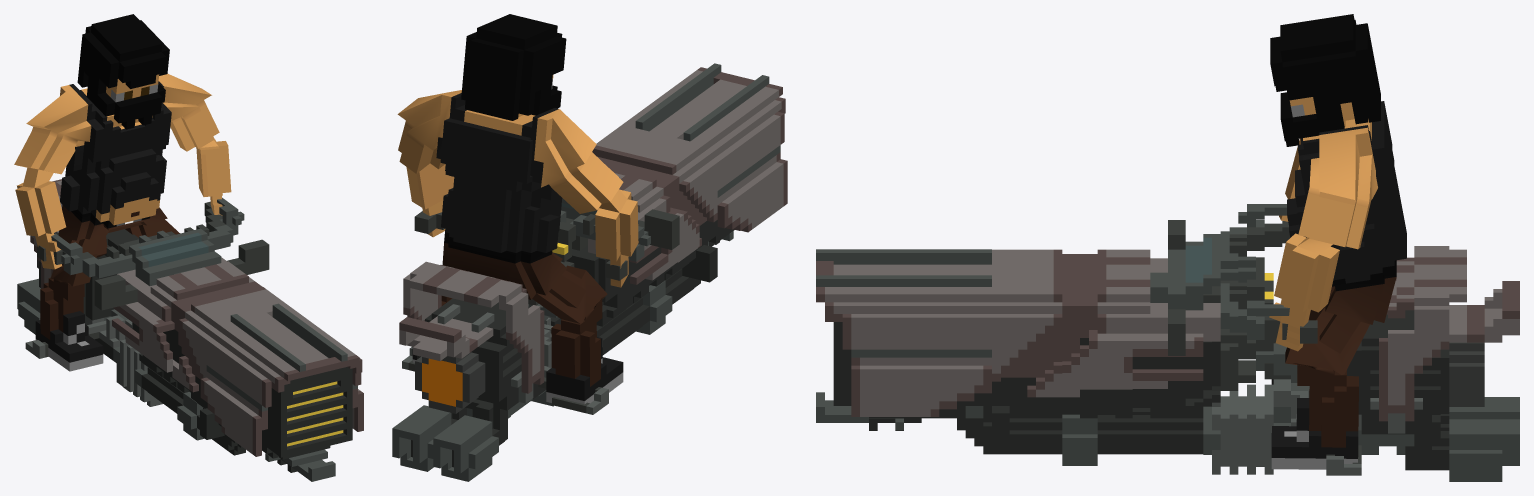
Rendered from OnTracer.obj.
3 renders of one model, left to right at view 1: azimuth 30°, elevation 25°; view 2: azimuth 150°, elevation 25°; view 3: azimuth 270°, elevation 25°, orthographic. The views are drawn at different scales.
Size of the model in its own units: 4.84 by 7.8 by 11.41.
2 materials, 2 textured.
